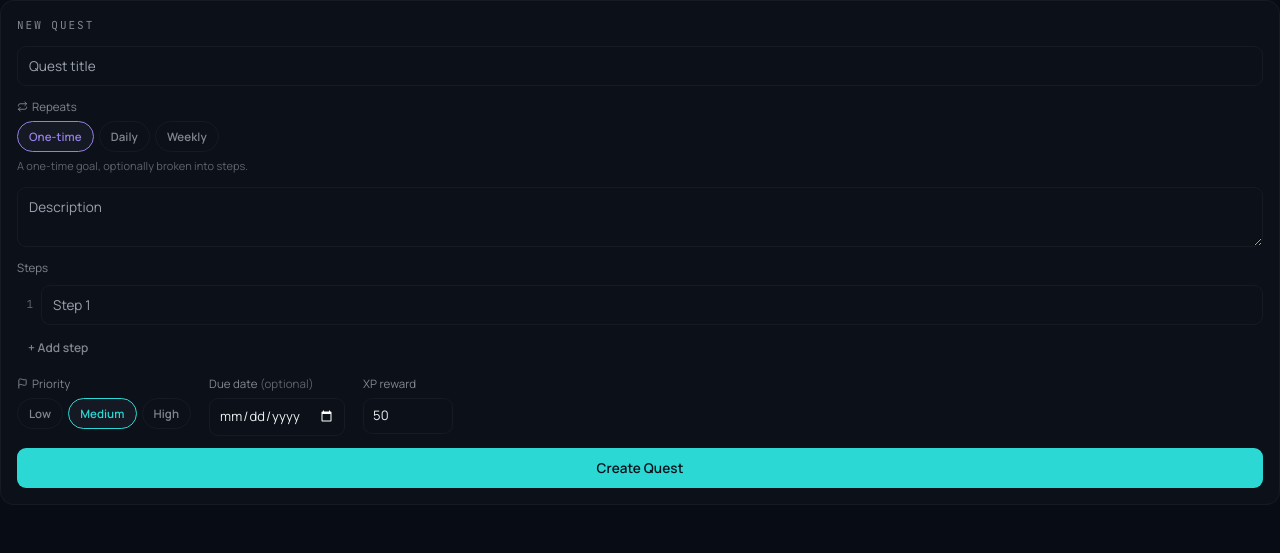
it: QuestForm › shows validation error when title is empty
Step 1. Type "A step" into the field labelled "Step 1" → (652,305), box [41,284,1263,325]
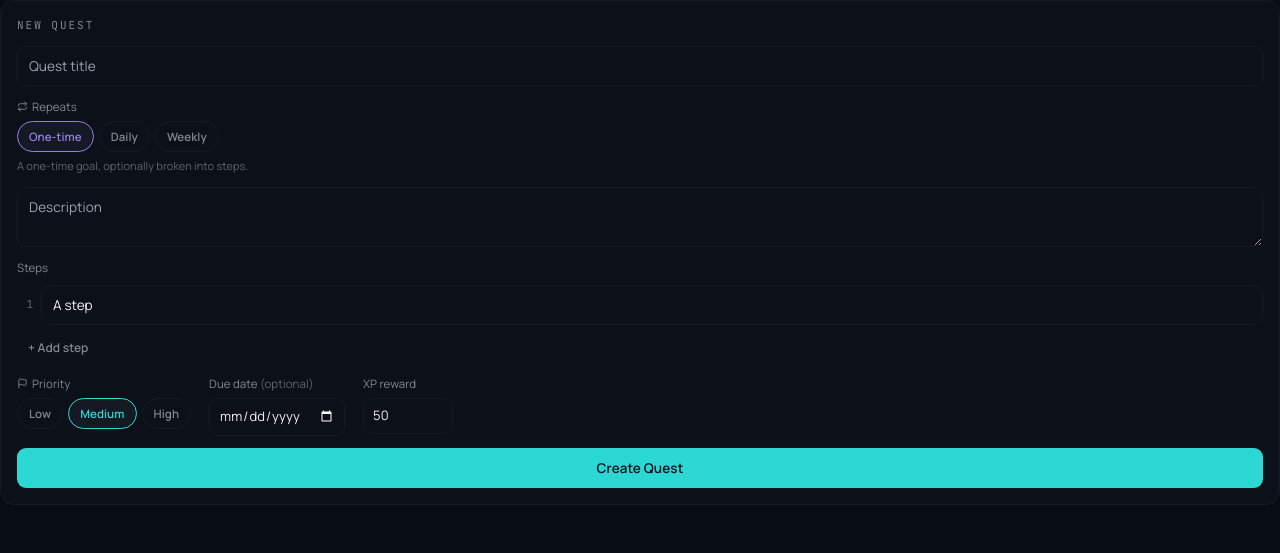
Step 2. Click the button "Create Quest" → (640,468), box [17,448,1263,488]
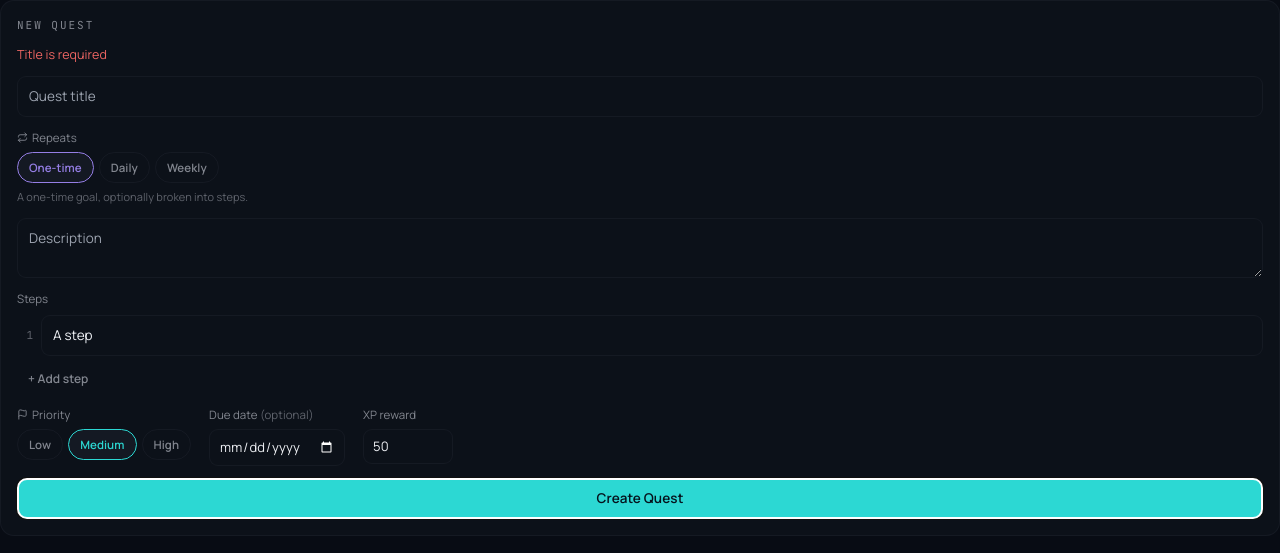
Result: the text "Title is required" is shown at [17,46,107,62]
